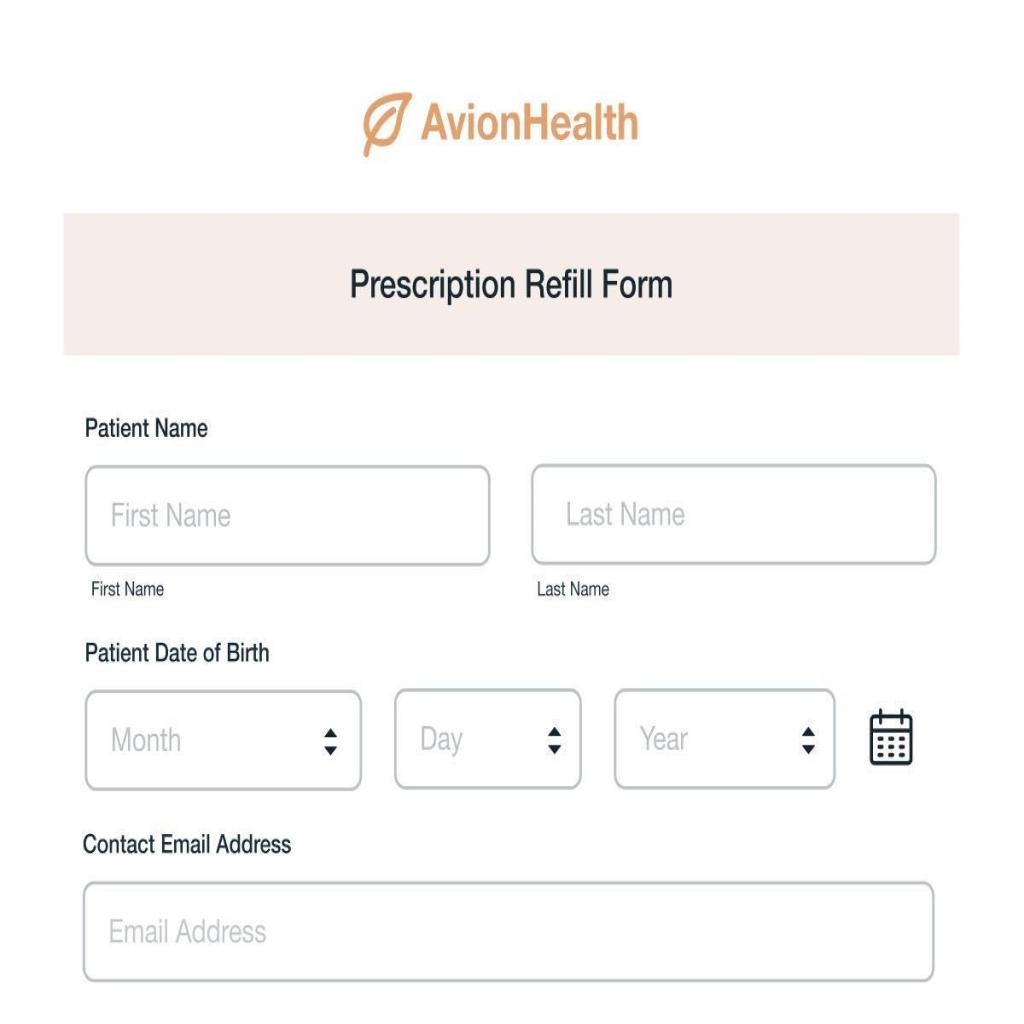dropdown: (83, 688, 360, 788), (616, 688, 836, 788), (396, 690, 581, 788)
icon: (866, 700, 923, 772)
input: (80, 878, 939, 986), (87, 463, 490, 567), (530, 466, 937, 564)
label: (82, 641, 270, 670), (84, 415, 210, 443)
